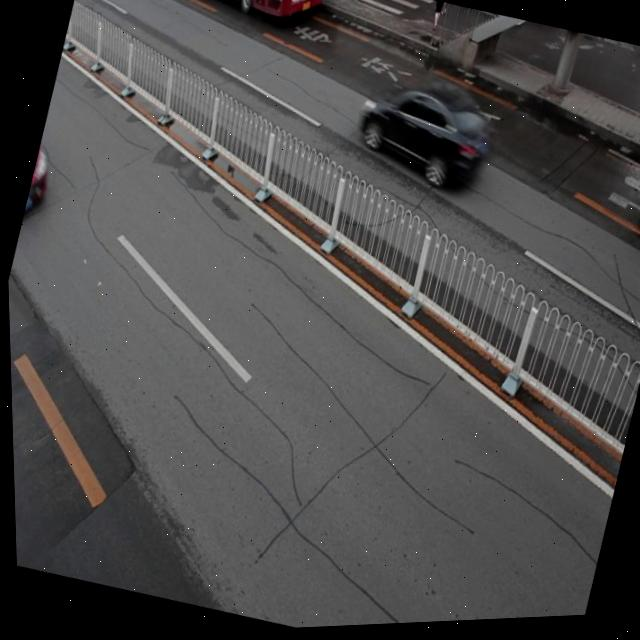car: (347, 63, 501, 199), (17, 129, 61, 230)
van: (155, 0, 330, 37)
